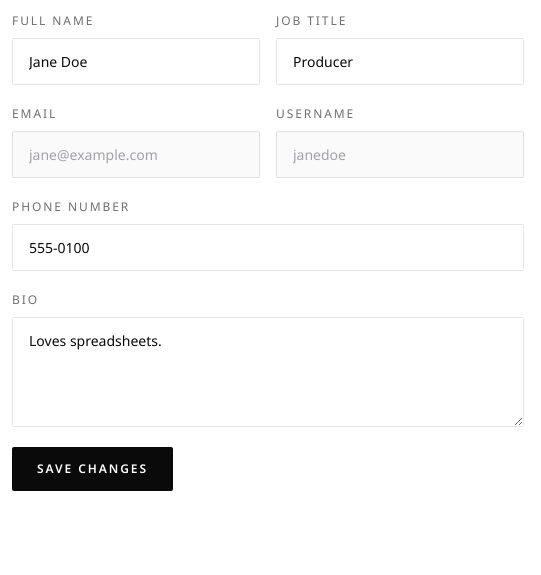
Test: EditProfileForm › shows the server error on failure
Click the button "Save changes". click: click(92, 469)
box: x1=12 y1=447 x2=173 y2=491
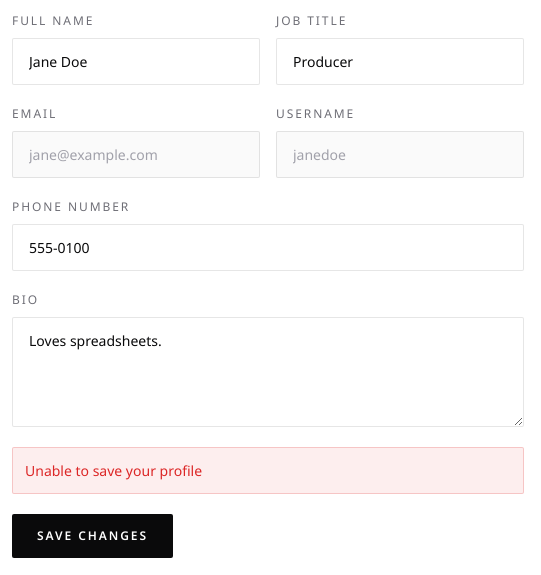
Expected: the text "Unable to save your profile" is shown, x1=12 y1=447 x2=524 y2=494
